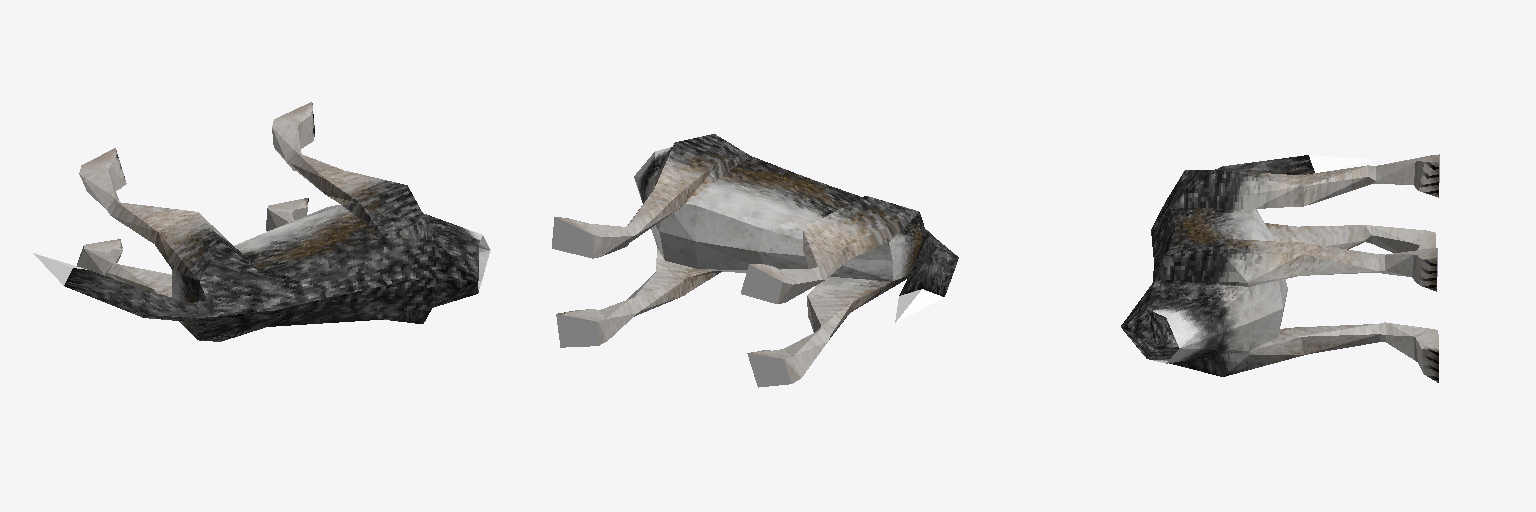
3 views of the same model, side by side, from view 1: azimuth 30°, elevation 25°; view 2: azimuth 150°, elevation 25°; view 3: azimuth 270°, elevation 25° (orthographic).
Bounding box in the file's own units: 4.28 × 1.44 × 3.2.
Materials: 6 (4 with a texture image).